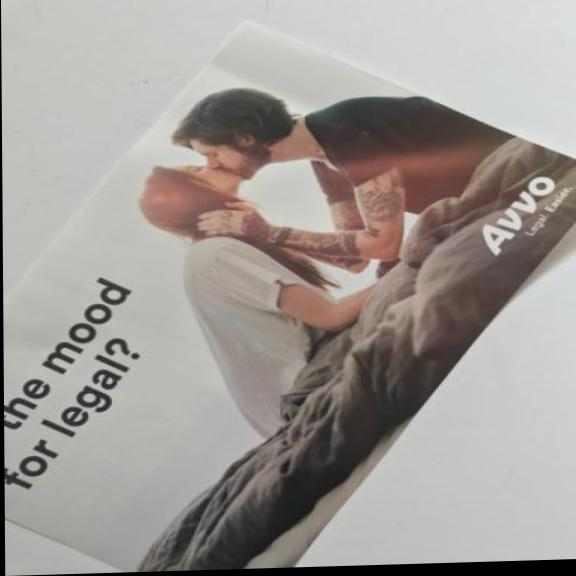Kertas: (0, 5, 576, 576)
